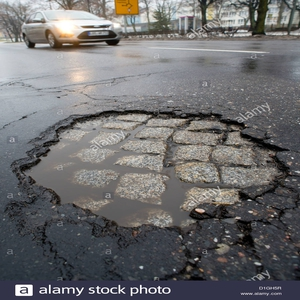pothole: (15, 109, 290, 234)
